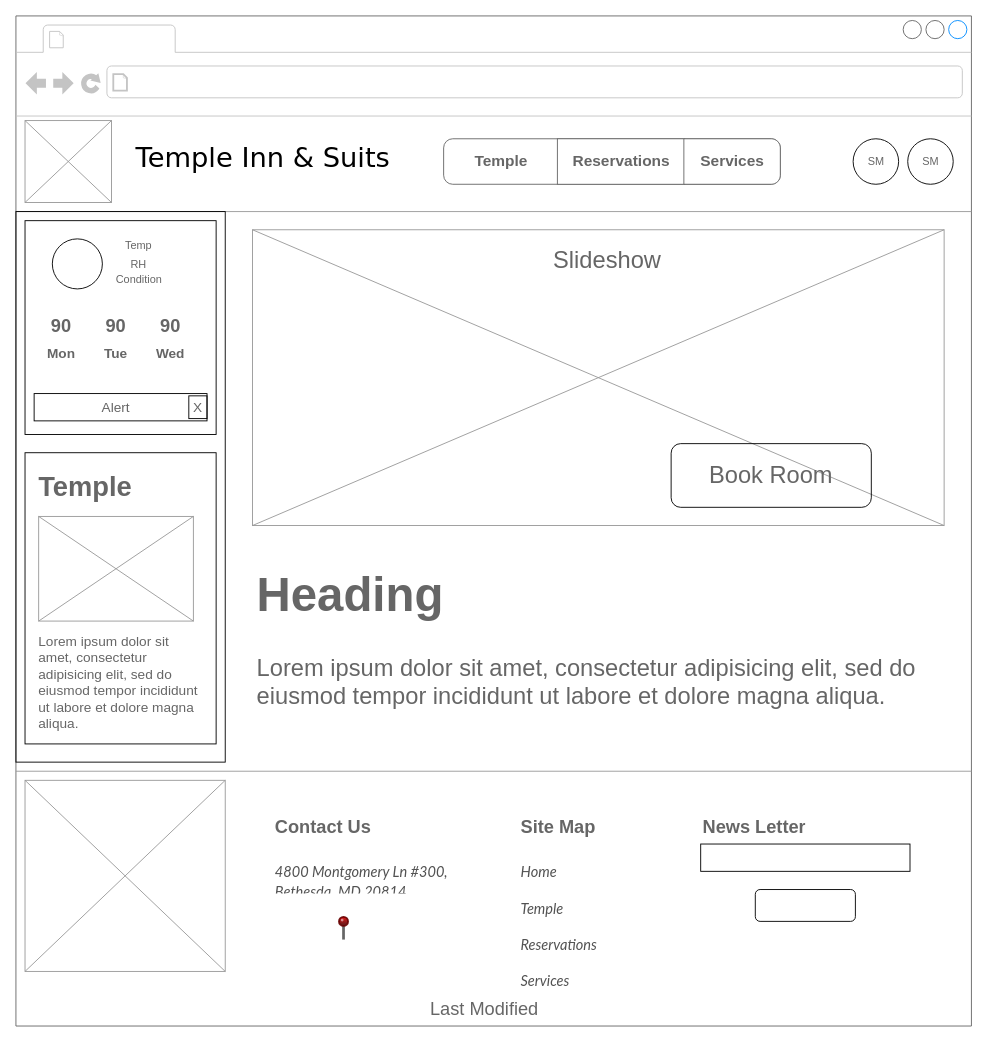
Some shapes in this 987 by 1042 pixel diagram are drawn without their labels. The shapes that lost their labels are listed below. From the top down, each one's centre as x and y in pixels, then its label:
point (120, 38): Page 1
point (247, 82): https://www.default.com
point (804, 905): Sign Up
